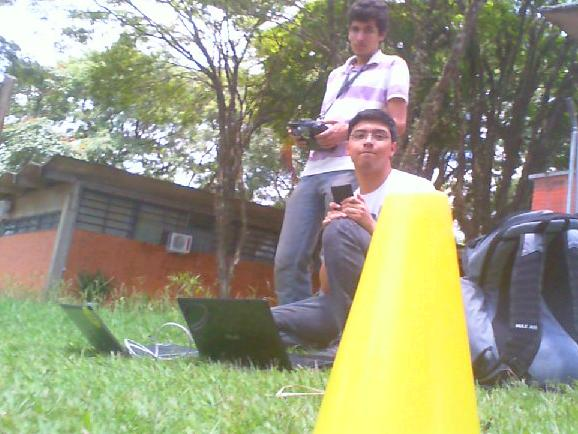0 cone: (314, 193, 483, 434)
